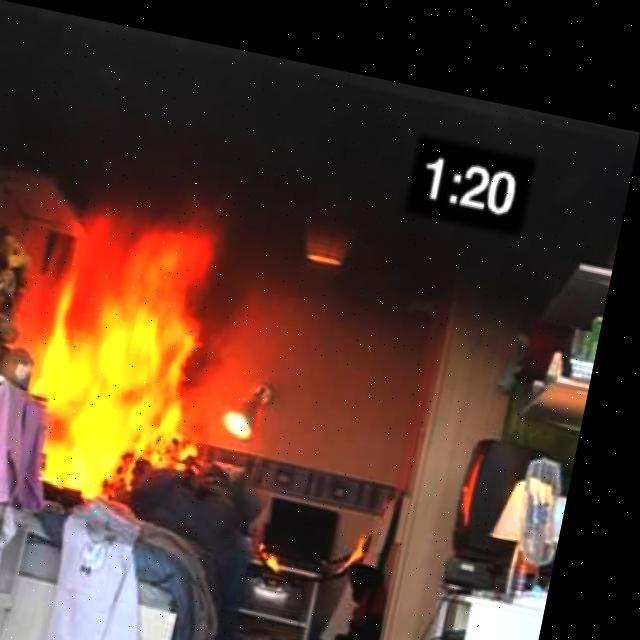Fire: (0, 154, 280, 532)
